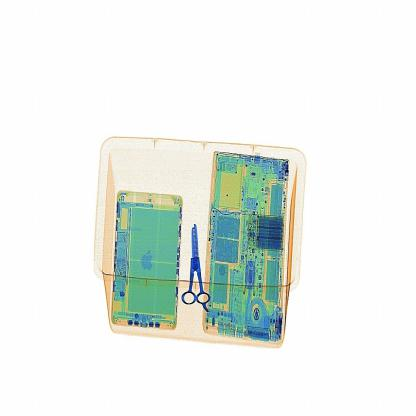gun: (174, 216, 214, 314)
